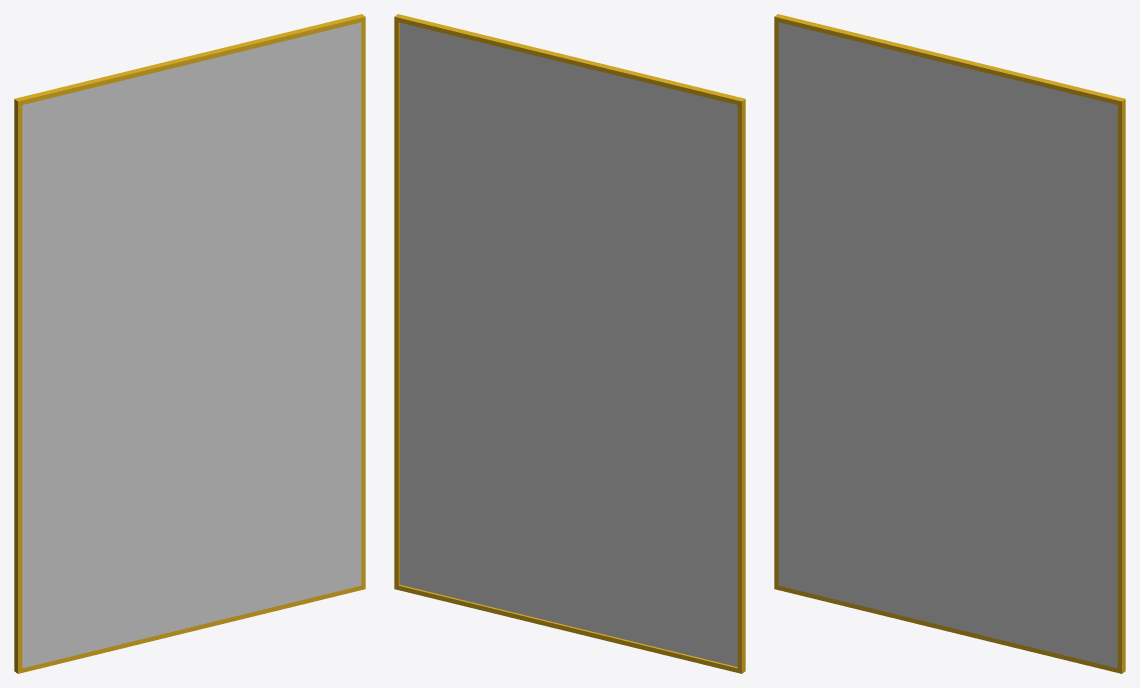
The model's file is Painting_Simple_24x36.fbx.
The picture shows the model from 3 angles, left to right: view 1: azimuth 30°, elevation 25°; view 2: azimuth 150°, elevation 25°; view 3: azimuth 330°, elevation 25°; orthographic projection.
Visible parts, largest first — view 1: Painting_Simple_24x36; view 2: Painting_Simple_24x36; view 3: Painting_Simple_24x36.
Part boxes in pixels (x1,y1,x2,y2): Painting_Simple_24x36: (14,14,365,673); Painting_Simple_24x36: (394,14,745,673); Painting_Simple_24x36: (774,14,1125,673).
Size of the model in its own units: 52.26 by 82.19 by 0.9804.
